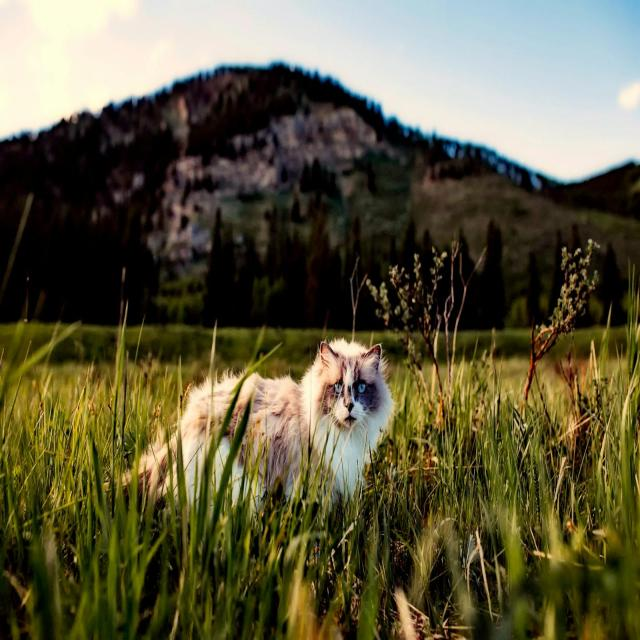Cat: (100, 336, 395, 533)
